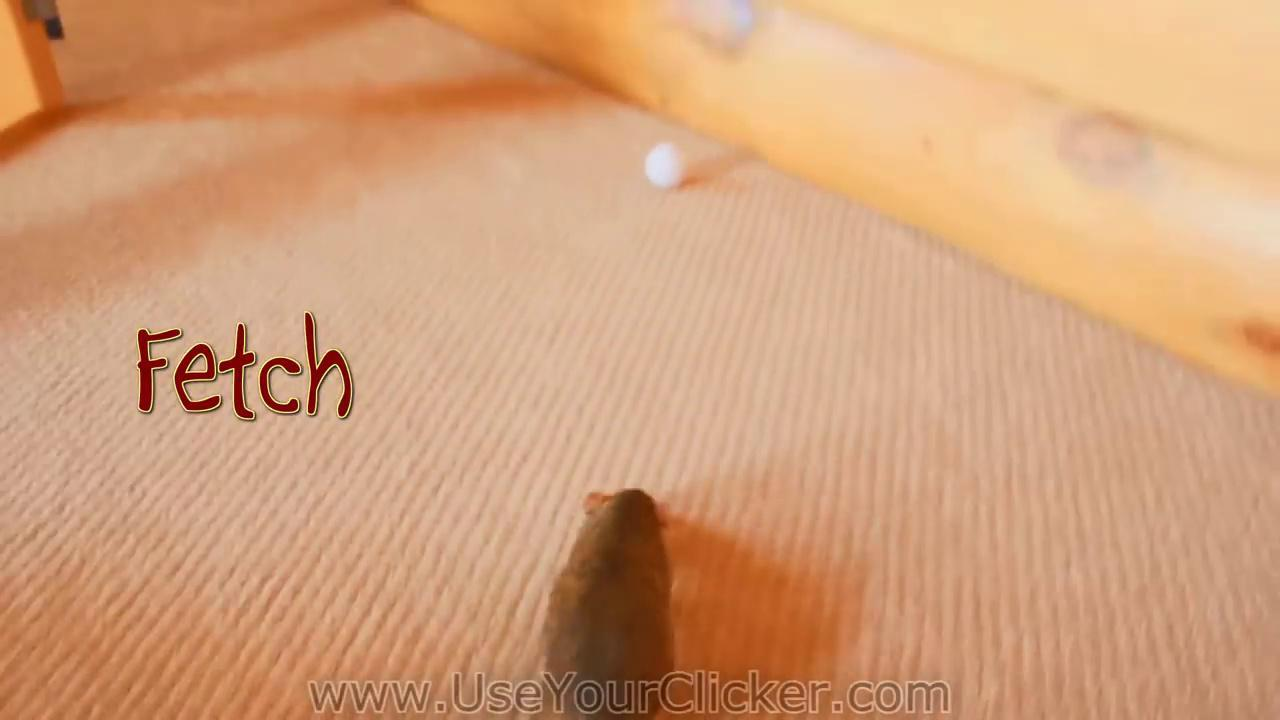rat: (545, 489, 678, 714)
